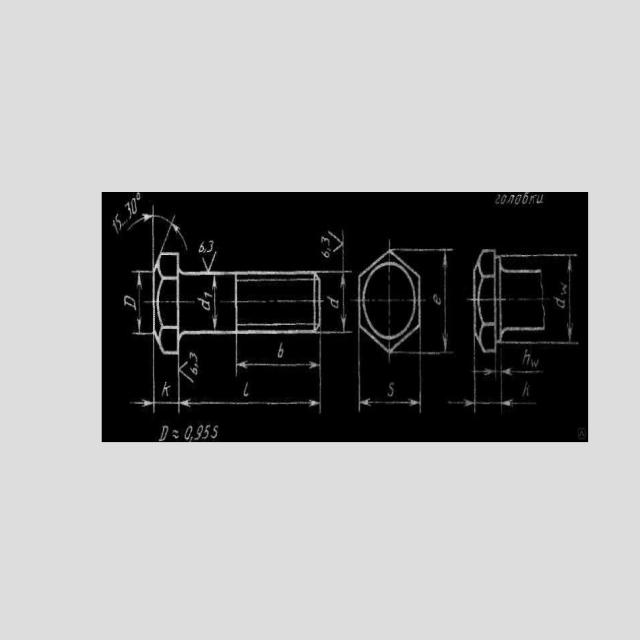marking_line: (177, 383, 324, 415), (233, 334, 323, 379), (357, 354, 422, 413), (421, 248, 454, 355), (449, 375, 537, 414), (547, 254, 579, 345), (127, 206, 188, 253), (321, 270, 353, 335), (130, 336, 156, 413), (468, 354, 544, 375), (134, 271, 153, 336), (212, 276, 218, 330)
numeric: (124, 295, 137, 310), (197, 298, 211, 311), (159, 426, 170, 441), (554, 296, 566, 309), (327, 295, 339, 308), (194, 424, 203, 441), (184, 425, 193, 441), (130, 199, 138, 216), (115, 215, 123, 231), (522, 349, 530, 365), (319, 235, 330, 246), (203, 425, 211, 440), (162, 382, 170, 397), (277, 342, 284, 359), (124, 203, 131, 219), (211, 425, 219, 439), (523, 381, 530, 397), (387, 382, 394, 398), (561, 281, 568, 296), (207, 239, 214, 253), (244, 383, 250, 399), (433, 293, 441, 305), (320, 250, 330, 259), (531, 358, 540, 368), (112, 222, 118, 236), (189, 353, 198, 362), (189, 367, 199, 375), (199, 241, 205, 254), (204, 292, 213, 299)
special_symbol: (328, 231, 343, 252), (202, 251, 217, 271), (180, 361, 190, 381), (173, 429, 181, 440), (136, 193, 142, 200)
